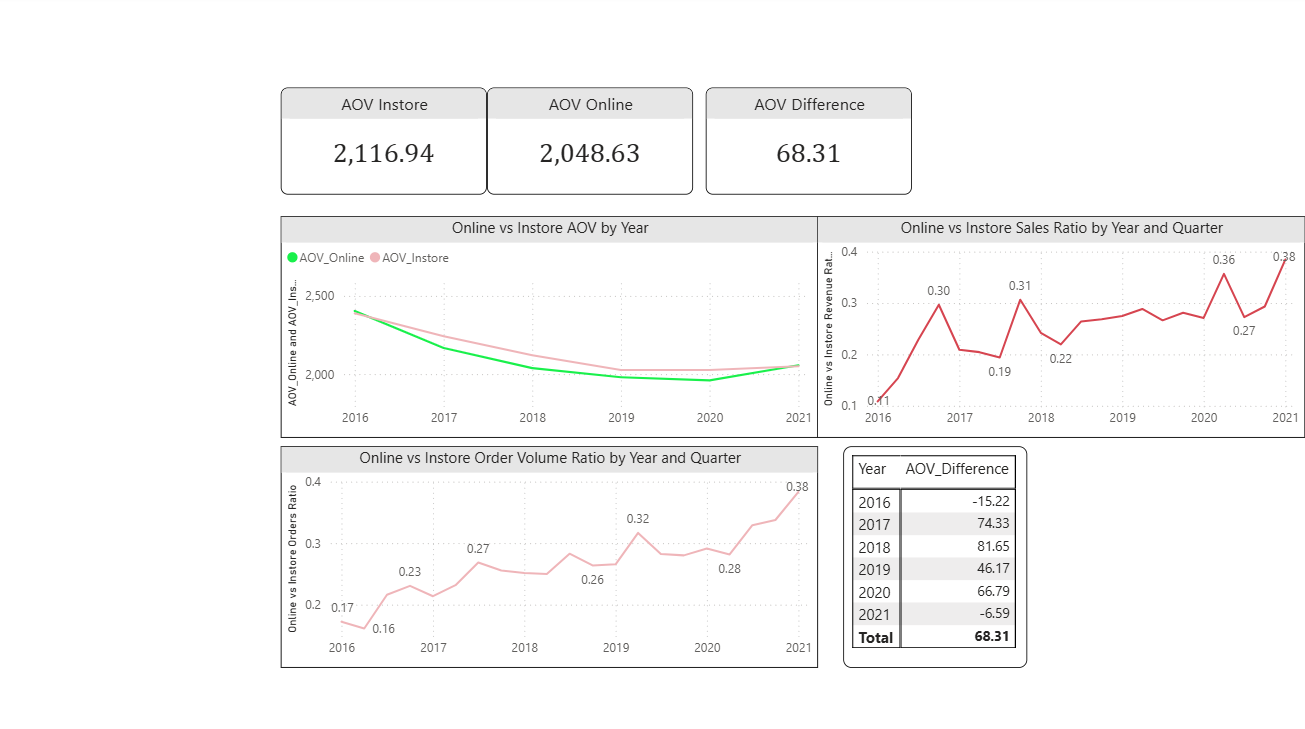

What the dashboard file says about the page in this screenshot:
{"tool":"powerbi","page":{"name":"Online vs Instore","canvas":[1280,720],"ordinal":4},"visuals":[{"type":"pivotTable","fields":{"Rows":["Sales.Order_Date.Variation.Date Hierarchy.Year"],"Values":["Measues.AOV_Difference"]},"box":[827.9,441.4,179.8,216.4],"z":0},{"type":"lineChart","title":"Online vs Instore AOV by Year","fields":{"Category":["Sales.Order_Date.Variation.Date Hierarchy.Year","Sales.Order_Date.Variation.Date Hierarchy.Quarter","Sales.Order_Date.Variation.Date Hierarchy.Month","Sales.Order_Date.Variation.Date Hierarchy.Day"],"Y":["Measues.AOV_Online","Measues.AOV_Instore"]},"box":[277.6,216.4,525.8,216.4],"z":1000},{"type":"lineChart","title":"Online vs Instore Order Volume Ratio by Year and Quarter","fields":{"Category":["Sales.Order_Date.Variation.Date Hierarchy.Year","Sales.Order_Date.Variation.Date Hierarchy.Quarter","Sales.Order_Date.Variation.Date Hierarchy.Month","Sales.Order_Date.Variation.Date Hierarchy.Day"],"Y":["Measues.Orders_Ratio"]},"box":[277.6,441.4,525.8,216.4],"z":2000},{"type":"card","title":"AOV Instore","fields":{"Values":["Measues.AOV_Instore"]},"box":[277.6,90.5,201.8,105.2],"z":3000},{"type":"card","title":"AOV Online","fields":{"Values":["Measues.AOV_Online"]},"box":[479.4,90.5,201.8,105.2],"z":4000},{"type":"card","title":"AOV Difference","fields":{"Values":["Measues.AOV_Difference"]},"box":[693.3,90.5,201.8,105.2],"z":5000},{"type":"lineChart","title":"Online vs Instore Sales Ratio by Year and Quarter","fields":{"Y":["Metrics.Rev_Ratio"],"Category":["Sales.Order_Date.Variation.Date Hierarchy.Year","Sales.Order_Date.Variation.Date Hierarchy.Quarter","Sales.Order_Date.Variation.Date Hierarchy.Month","Sales.Order_Date.Variation.Date Hierarchy.Day"]},"box":[802.7,216.8,477.5,216.8],"z":6000}]}

Visuals, with their boxes in screenshot pixels (x1, y1, x2, y2), scaled from the page's 1280x720 canvas onto the 1305x729 screenshot:
pivotTable - Sales.Order_Date.Variation.Date Hierarchy.Year x Measues.AOV_Difference: locate(844, 447, 1027, 666)
"Online vs Instore AOV by Year" lineChart: locate(283, 219, 819, 438)
"Online vs Instore Order Volume Ratio by Year and Quarter" lineChart: locate(283, 447, 819, 666)
"AOV Instore" card: locate(283, 92, 489, 198)
"AOV Online" card: locate(489, 92, 695, 198)
"AOV Difference" card: locate(707, 92, 913, 198)
"Online vs Instore Sales Ratio by Year and Quarter" lineChart: locate(818, 220, 1304, 439)
